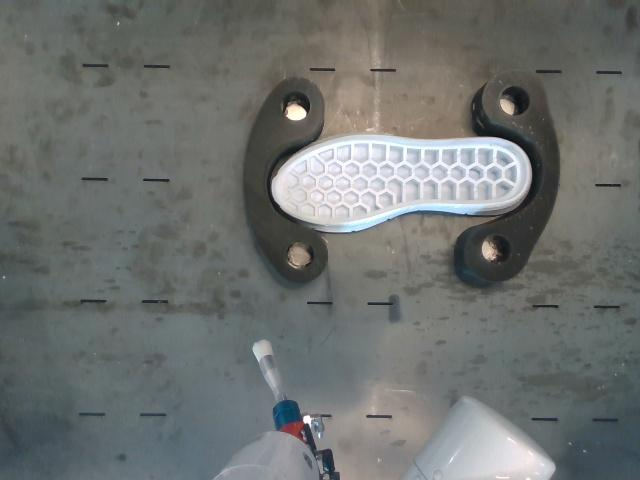shoes: (271, 135, 528, 224)
